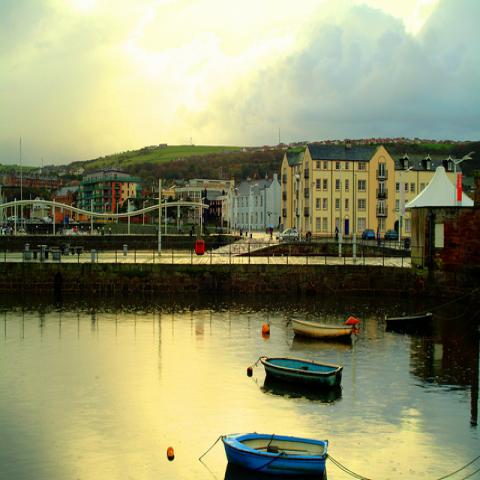car: (277, 228, 301, 242), (361, 227, 376, 240), (383, 229, 397, 240), (17, 218, 26, 227), (7, 216, 17, 222), (44, 217, 52, 224), (69, 218, 75, 223)
